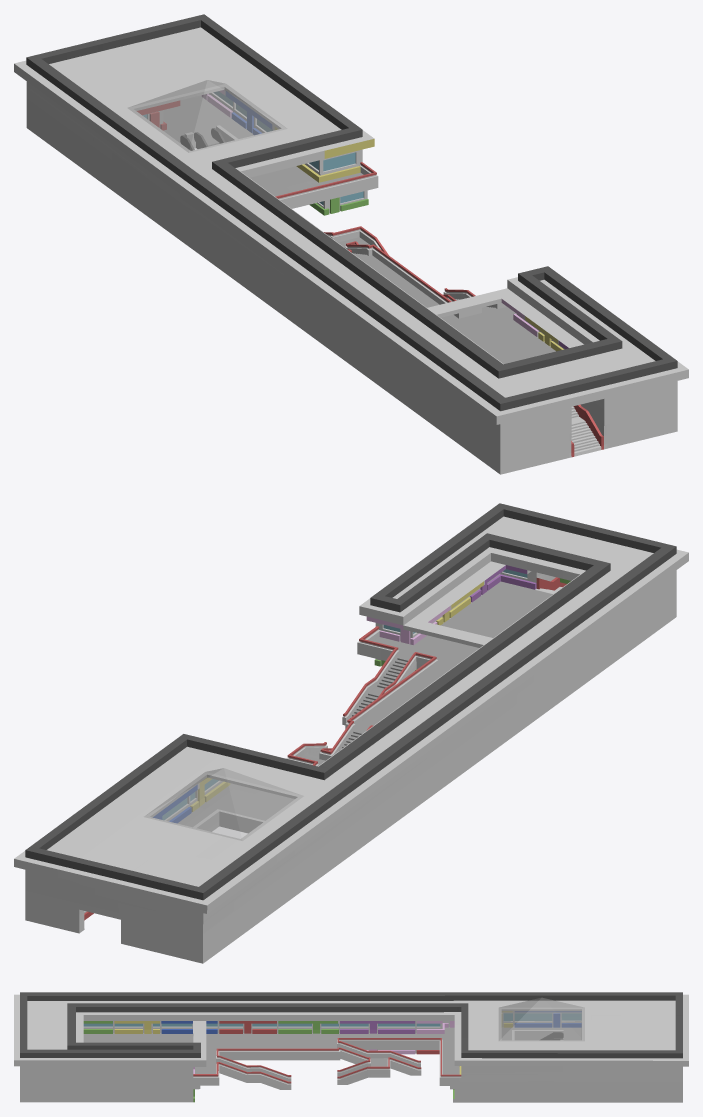
File: OVERGATE_MODLE.fbx
3 views of the same model, one above another, from view 1: azimuth 30°, elevation 25°; view 2: azimuth 150°, elevation 25°; view 3: azimuth 270°, elevation 25° (orthographic). The views are drawn at different scales.
Visible parts, largest first — view 1: overgate24, polySurface1; view 2: overgate24, polySurface1; view 3: overgate24, polySurface1.
Boxes of the visible parts, bbox=[...] form: overgate24: bbox=[14, 14, 688, 474]; polySurface1: bbox=[128, 80, 287, 152]; overgate24: bbox=[14, 503, 688, 963]; polySurface1: bbox=[144, 768, 303, 840]; overgate24: bbox=[14, 992, 688, 1102]; polySurface1: bbox=[498, 997, 584, 1041].
Bounding box in the file's own units: 27.08 × 13.72 × 117.
